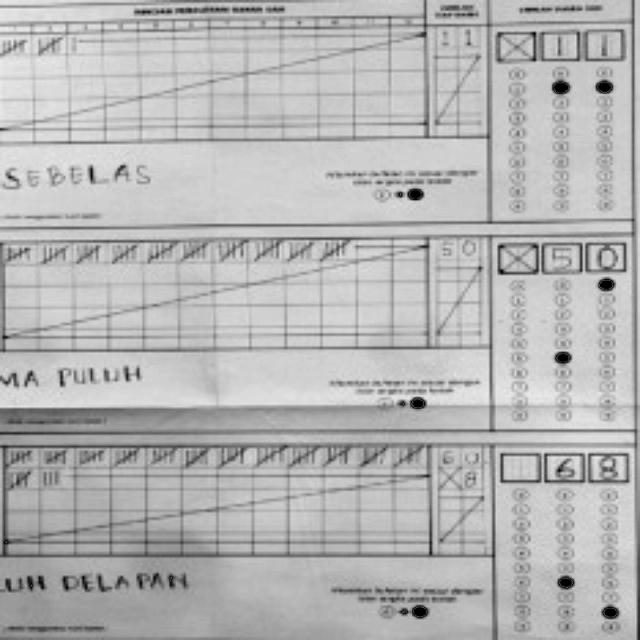Suara: (488, 24, 621, 63), (490, 445, 630, 482), (487, 237, 626, 274)
